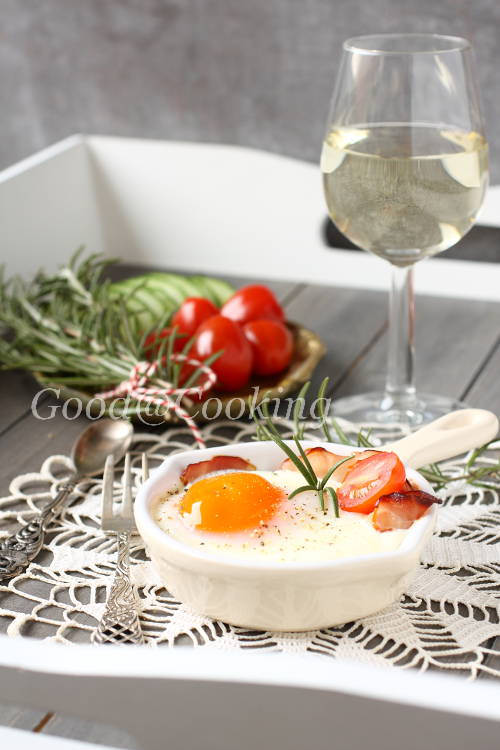fried egg: (162, 465, 407, 554)
glass of water: (315, 16, 496, 449)
